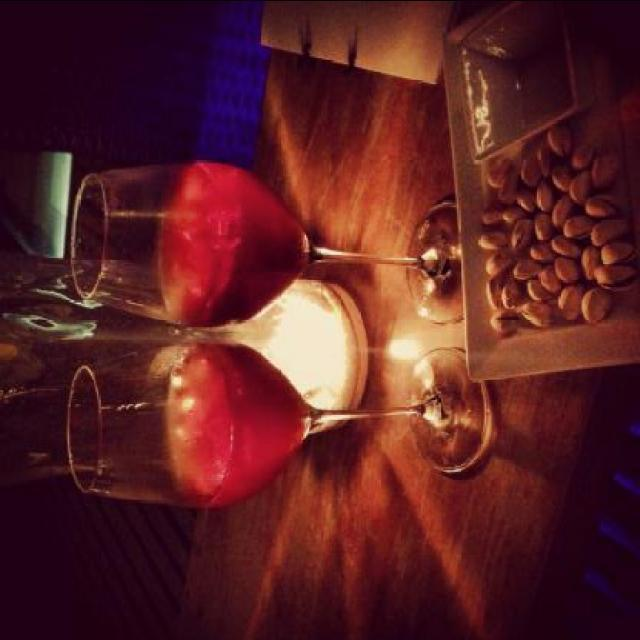Juice: (166, 338, 309, 508), (158, 161, 310, 319)
